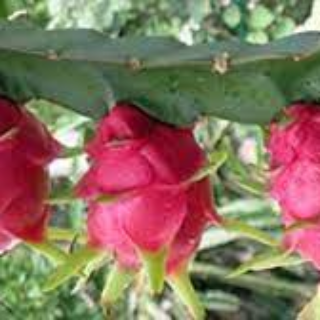thanh_long: (72, 106, 227, 307)
